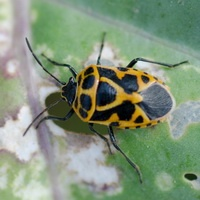insect: (23, 34, 187, 182)
